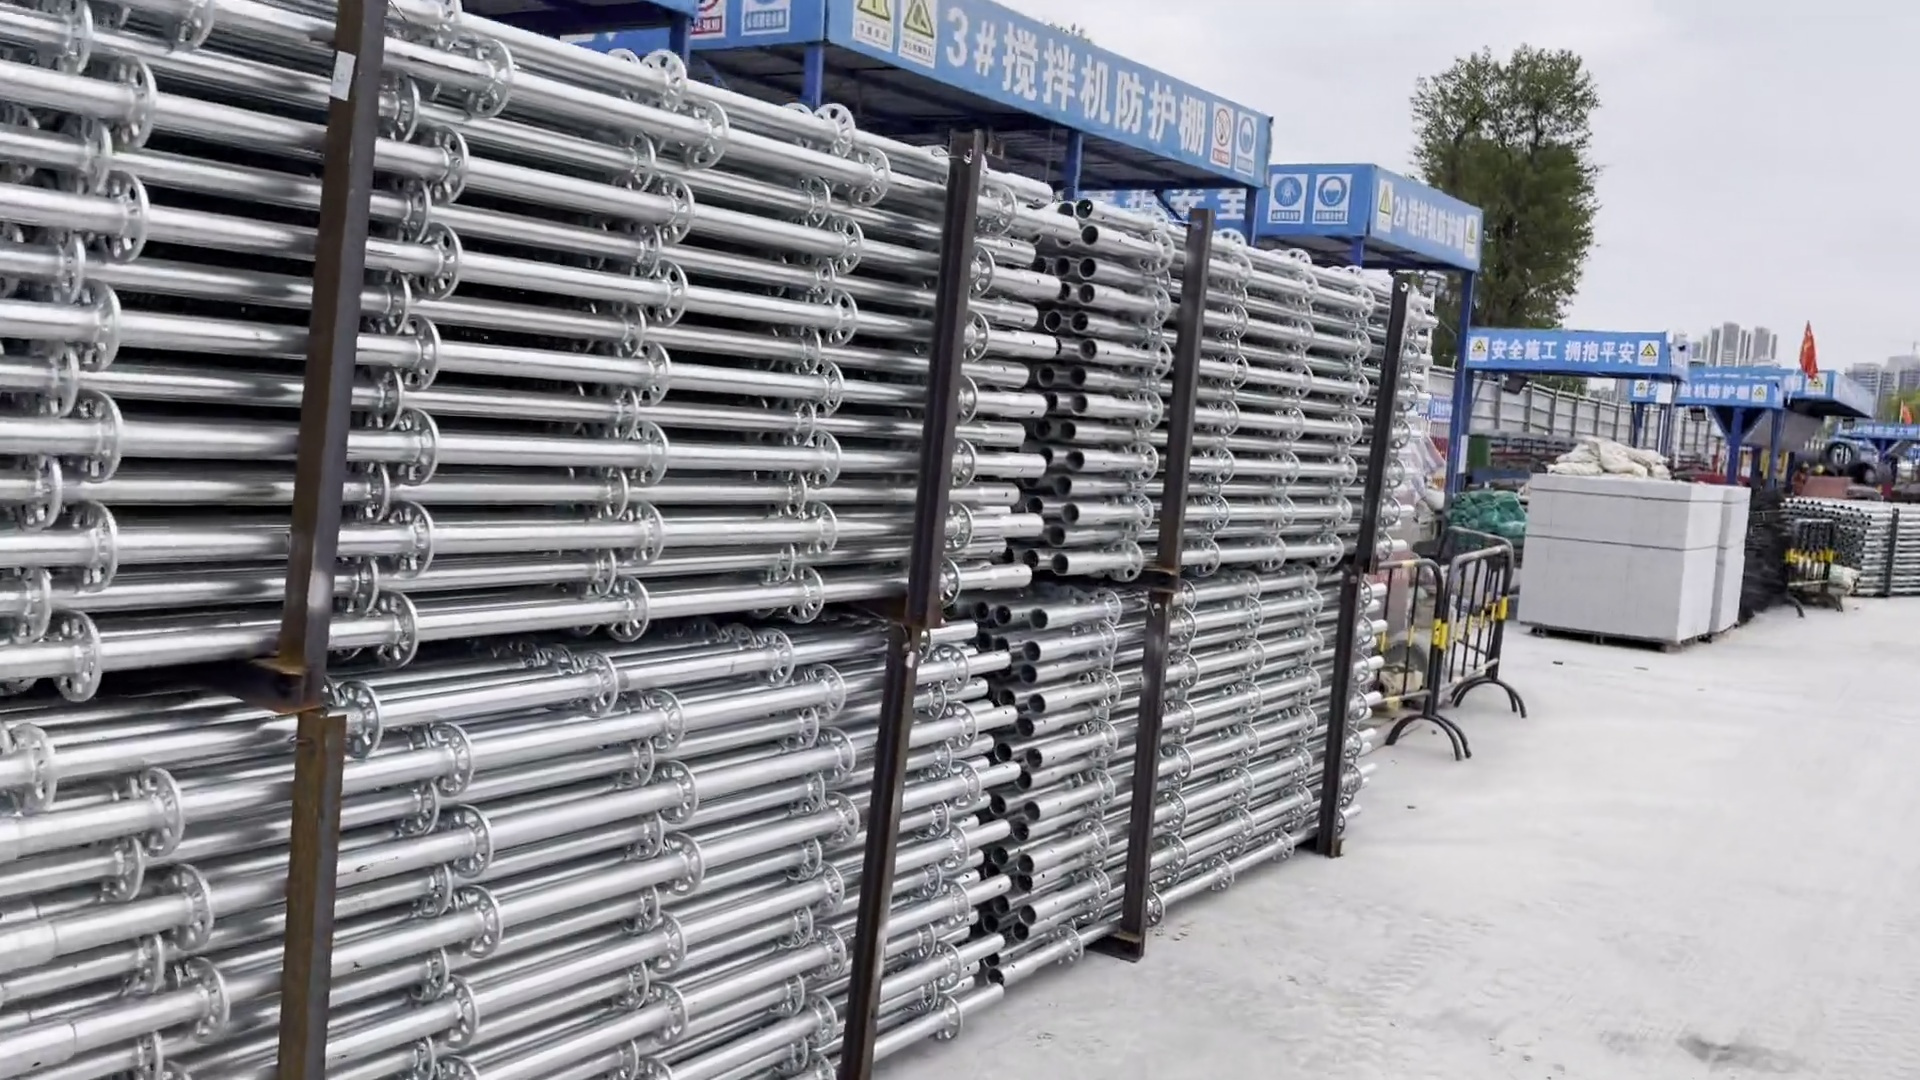scaffold: (1, 7, 1011, 633), (25, 589, 1004, 1080), (961, 559, 1422, 981), (1000, 233, 1458, 595)
